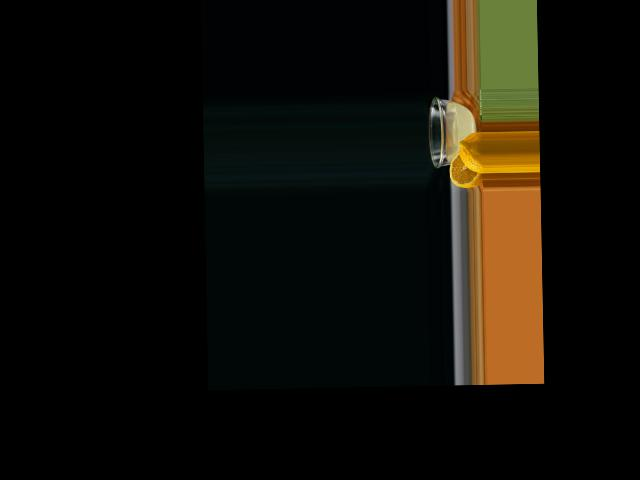lemon: (448, 132, 484, 186)
